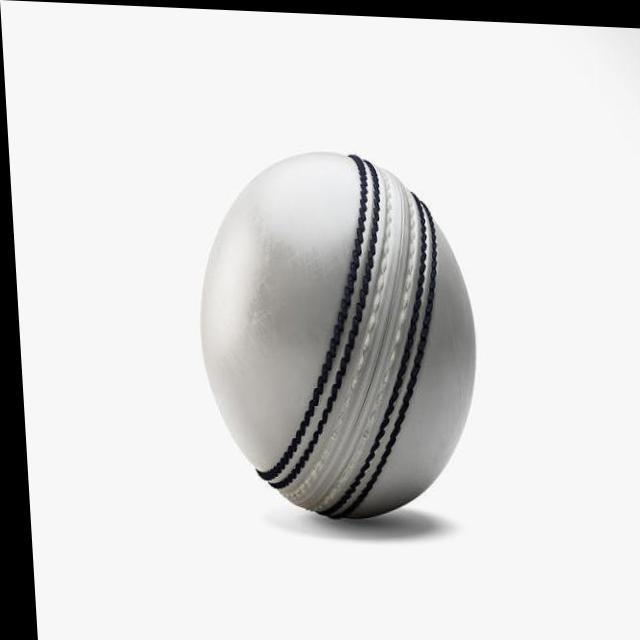cricket ball: (197, 149, 473, 518)
